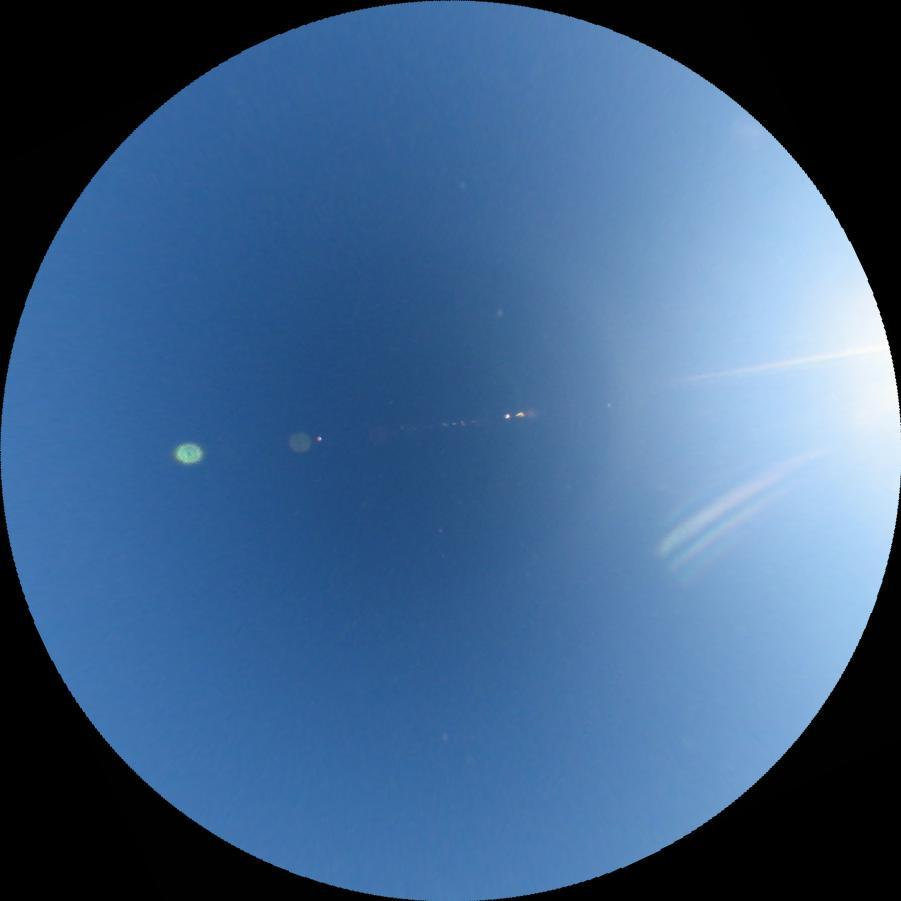parasite: (650, 437, 826, 557), (680, 345, 886, 383)
